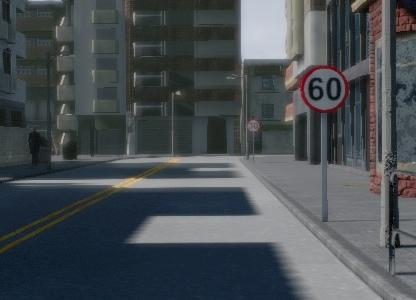Speed_60: (377, 58, 416, 125)
